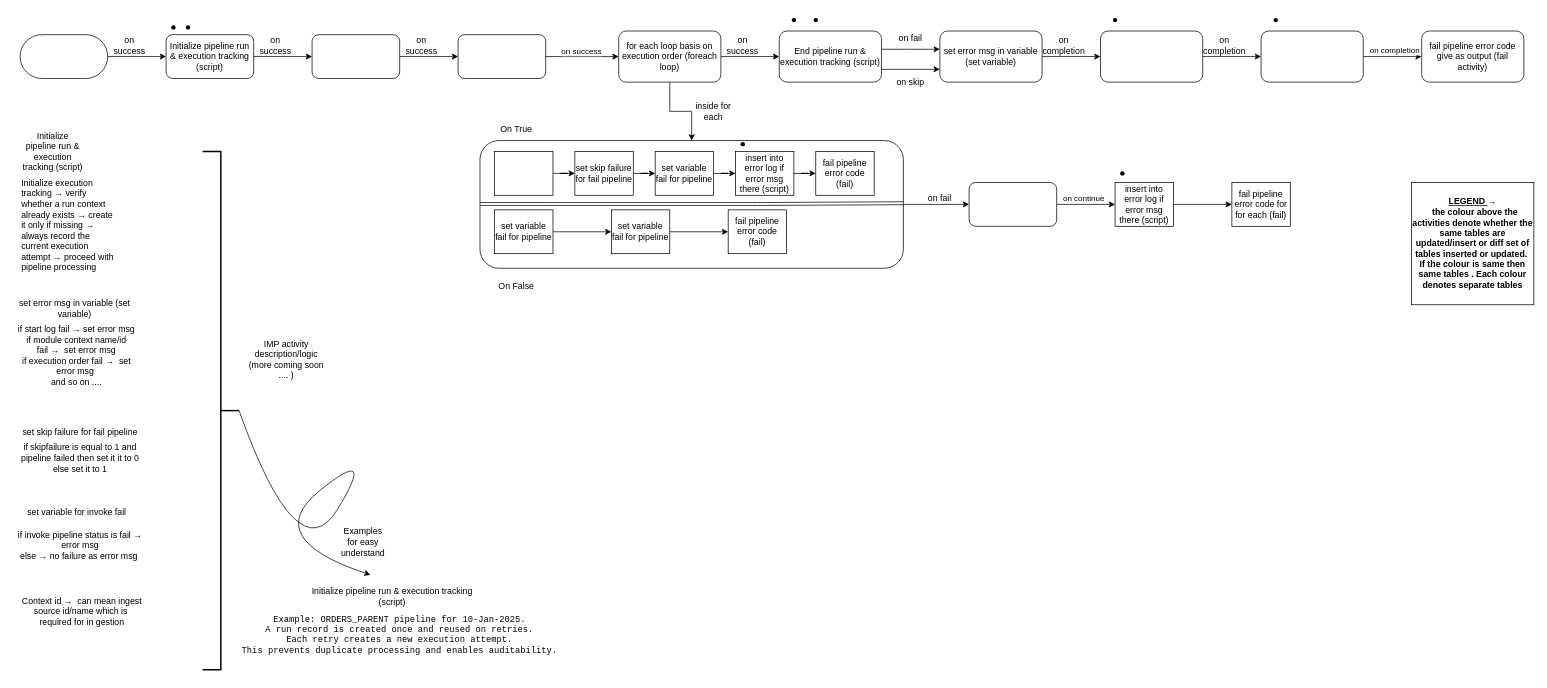
Some shapes in this 1547 by 688 pixel diagram are drawn without their labels. The centre of each missing label's shape, as x and y in pixels:
"call child pipeline (invoke)" goes at point 523,173.
"fetch context id from name(script/lookup)" goes at point 355,56.
"geting execution order for a single module id/name (script/lookup)" goes at point 501,56.
"insert error logs in a separate error log table (script)" goes at point 1151,56.
"parent log update status as fail and throw error code (script)" goes at point 1311,56.
"Pipeline trigger" goes at point 63,56.
"set variable fail for pipeline for for each" goes at point 1012,204.
